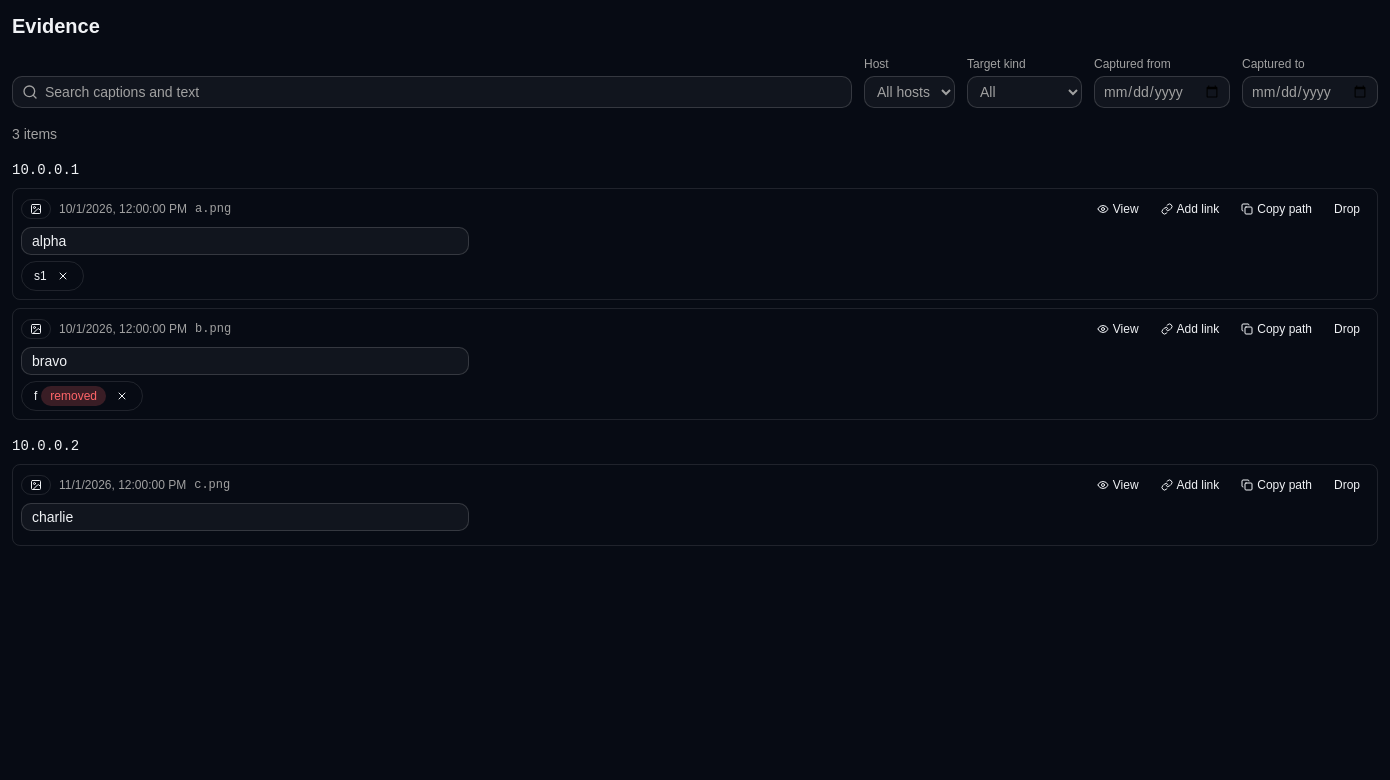
Test: EvidencePage › nothing yet lists only unlinked items, removed links included
Expected: the list item with test id "evidence-a" is shown, [12, 188, 1378, 300]
Select "Nothing yet" in the dropdown labelled "Target kind": (1024, 92) [967, 76, 1082, 108]
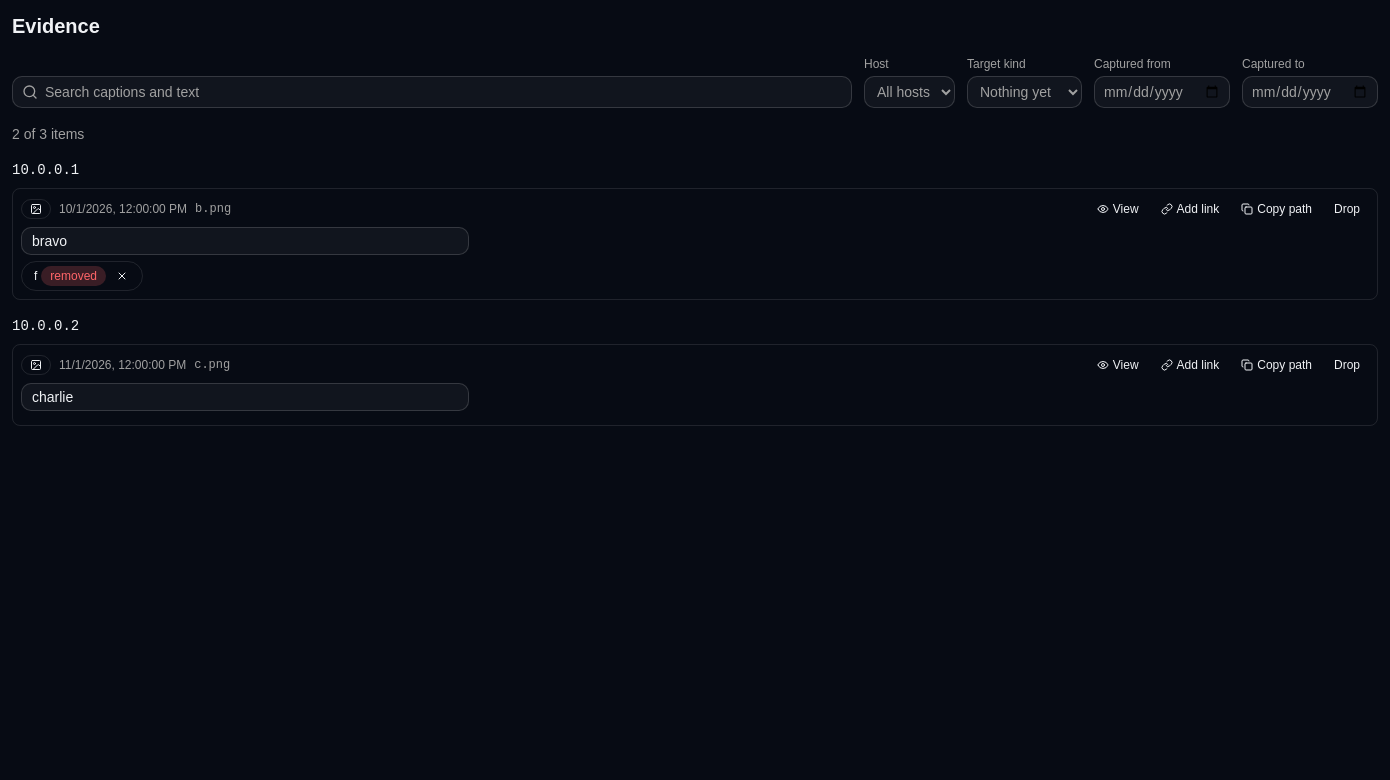
Now the text "2 of 3 items" is shown, box [12, 126, 84, 142]
